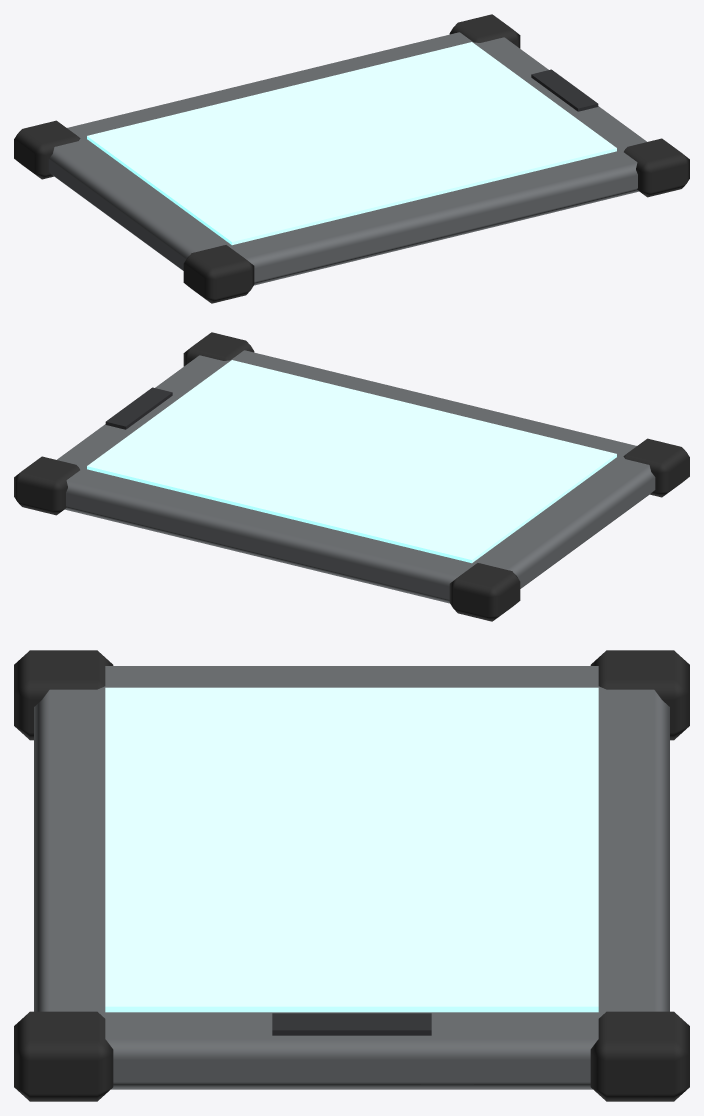
The model's file is datapad.glb.
The picture shows the model from 3 angles, top to bottom: view 1: azimuth 30°, elevation 25°; view 2: azimuth 150°, elevation 25°; view 3: azimuth 270°, elevation 25°; orthographic projection. The views are drawn at different scales.
Visible parts, largest first — view 1: datapad; view 2: datapad; view 3: datapad.
Boxes of the visible parts, x1,y1,x2,y2 form: datapad: [14, 14, 689, 303]; datapad: [14, 332, 689, 621]; datapad: [14, 650, 689, 1101].
Size of the model in its own units: 0.24 by 0.017 by 0.17.
